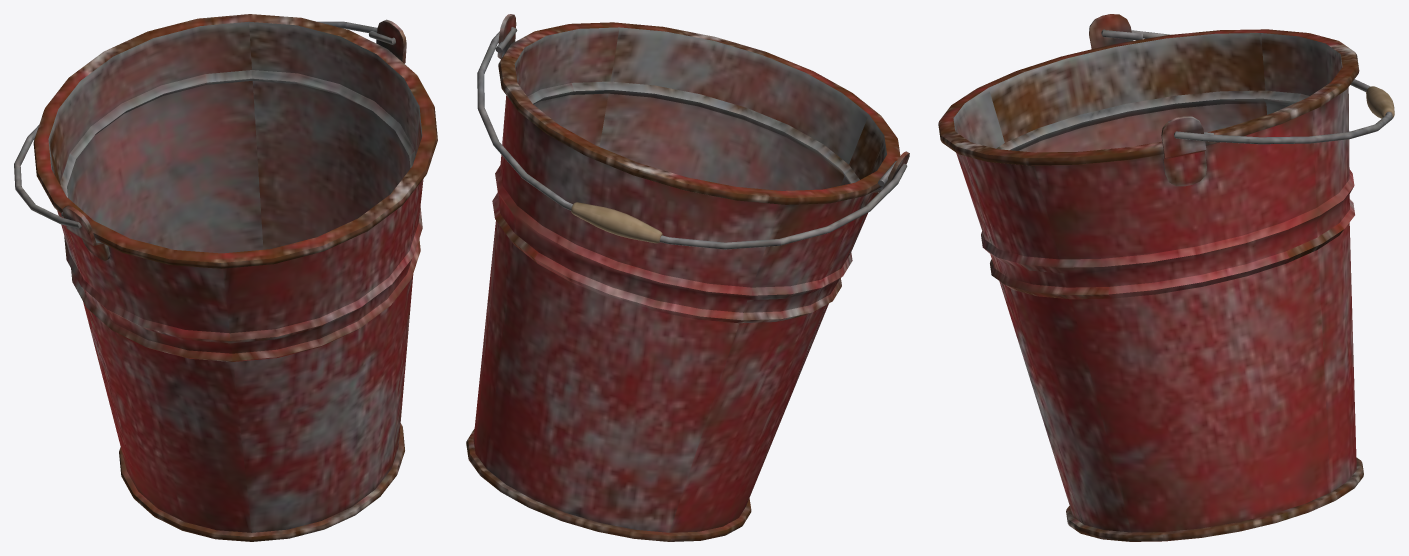
The model's file is bucket.glb.
3 views of the same model, side by side, from view 1: azimuth 30°, elevation 25°; view 2: azimuth 150°, elevation 25°; view 3: azimuth 270°, elevation 25° (orthographic). The views are drawn at different scales.
Parts seen in each view (by area): view 1: bucket_low; view 2: bucket_low; view 3: bucket_low.
Part boxes in pixels (x1=…): bucket_low: x1=14, y1=14, x2=437, y2=541; bucket_low: x1=466, y1=14, x2=909, y2=541; bucket_low: x1=938, y1=14, x2=1394, y2=541.
Size of the model in its own units: 0.3012 by 0.35 by 0.3083.
Materials: 4 (4 with a texture image).
